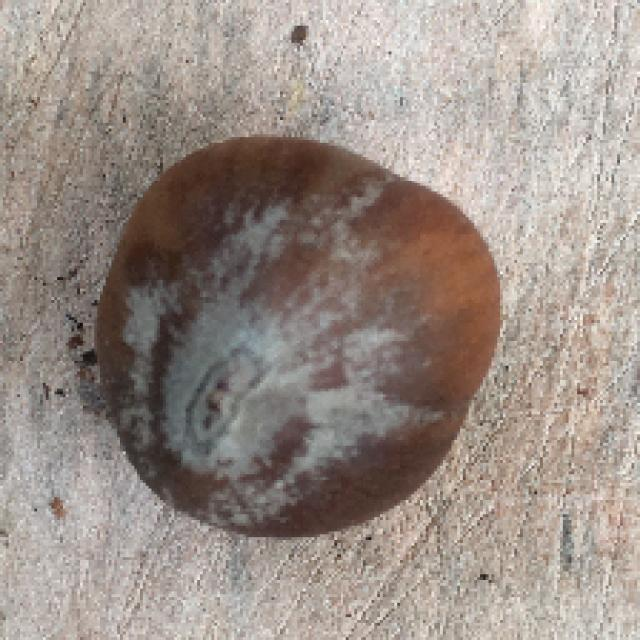damagedHazelnut: (89, 127, 509, 558)
